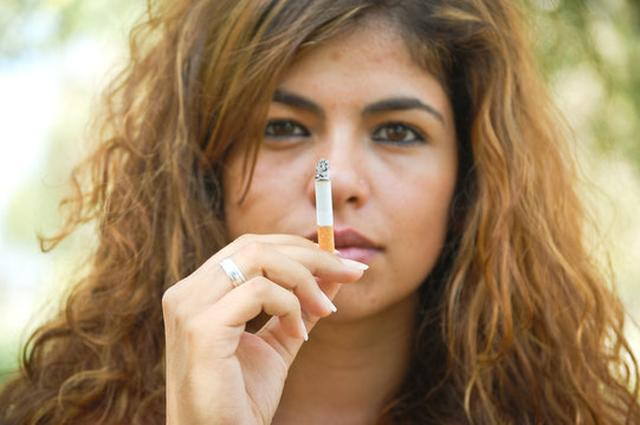Cigarette: (313, 158, 335, 253)
